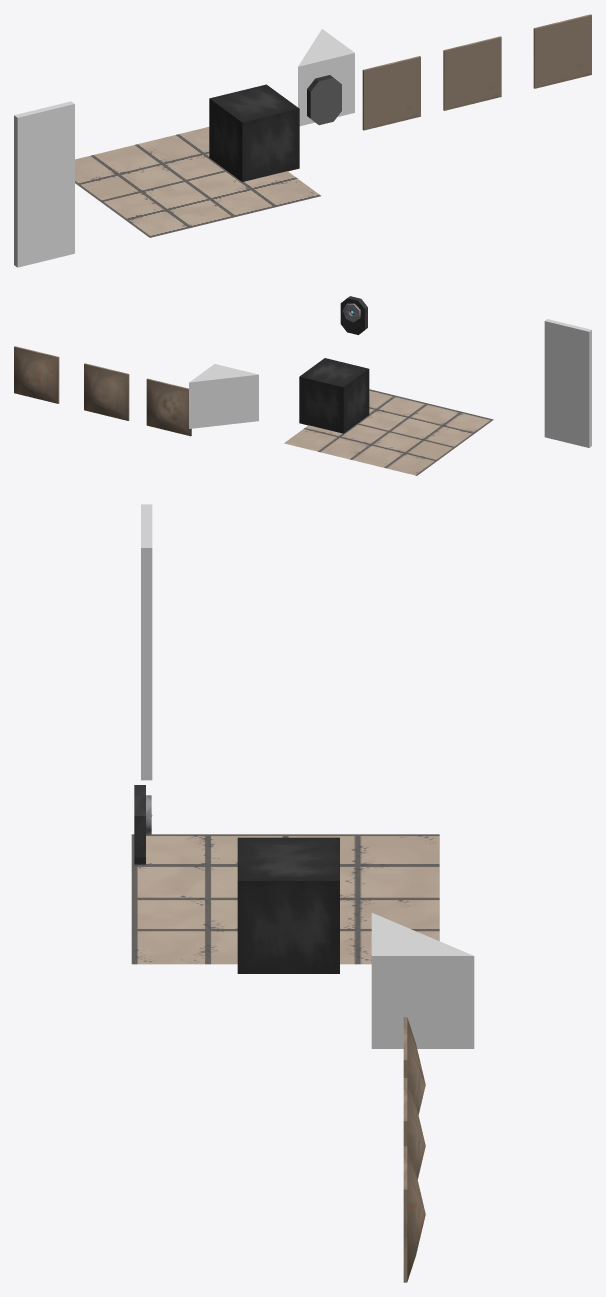
Rendered from murs.FBX.
3 renders of one model, top to bottom at view 1: azimuth 30°, elevation 25°; view 2: azimuth 150°, elevation 25°; view 3: azimuth 270°, elevation 25°, orthographic. The views are drawn at different scales.
Parts seen in each view (by area): view 1: Plane001, Box001, cube, mur 1, mur 2, mur 003, fromage, interrupteur; view 2: Plane001, Box001, cube, fromage, mur 003, mur 2, mur 1, interrupteur, Cylinder001; view 3: Plane001, cube, fromage, Box001, mur 003, mur 2, mur 1.
Boxes of the visible parts, box(x1,y1,x2,y2) form: Plane001: box(75, 127, 320, 237); Box001: box(14, 101, 74, 267); cube: box(209, 84, 299, 181); mur 1: box(362, 56, 420, 130); mur 2: box(443, 36, 501, 110); mur 003: box(533, 14, 591, 88); fromage: box(298, 29, 354, 126); interrupteur: box(307, 75, 341, 125); Plane001: box(284, 389, 493, 475); Box001: box(544, 319, 591, 447); cube: box(299, 358, 369, 433); fromage: box(189, 364, 258, 428); mur 003: box(14, 346, 59, 403); mur 2: box(84, 363, 129, 420); mur 1: box(146, 378, 191, 436); interrupteur: box(340, 296, 367, 334); Cylinder001: box(343, 303, 360, 322); Plane001: box(131, 834, 439, 964); cube: box(237, 837, 339, 973); fromage: box(371, 913, 474, 1048); Box001: box(141, 504, 152, 780); mur 003: box(403, 1146, 425, 1282); mur 2: box(403, 1078, 425, 1179); mur 1: box(403, 1017, 425, 1114).
Size of the model in its own units: 1151 by 334 by 300.
